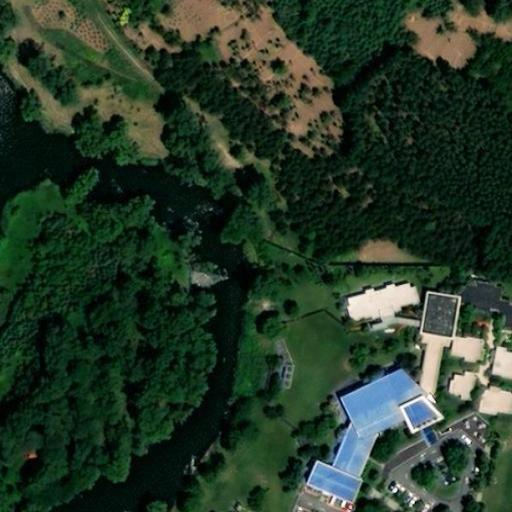building: (331, 362, 420, 481), (349, 276, 422, 336), (419, 293, 453, 388), (457, 283, 512, 338), (306, 464, 366, 503), (401, 401, 434, 435), (448, 368, 474, 400), (452, 333, 485, 358), (480, 388, 512, 411), (492, 351, 512, 372)
